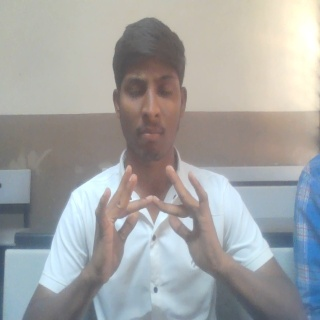Face: (109, 15, 190, 163)
Internet: (87, 163, 228, 283)
